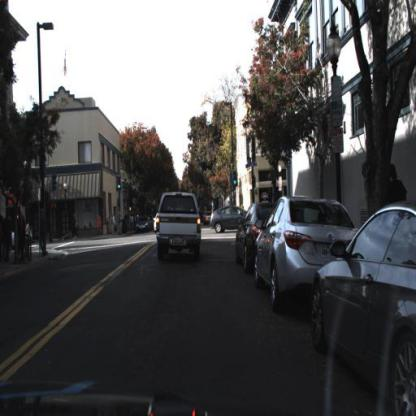car: (309, 190, 416, 416), (310, 199, 416, 416), (253, 190, 353, 307), (256, 191, 346, 313), (154, 190, 207, 265), (233, 198, 278, 273), (236, 202, 264, 276), (211, 205, 255, 237), (136, 213, 152, 236), (155, 214, 159, 236)
pedestrian: (384, 162, 410, 206), (36, 206, 48, 256), (4, 211, 14, 264), (18, 211, 26, 262), (25, 219, 34, 262), (72, 212, 81, 243), (96, 211, 106, 236), (71, 214, 78, 240), (109, 212, 117, 233), (118, 210, 124, 237)
trafficLight-Green: (232, 167, 241, 188), (117, 177, 123, 193)
